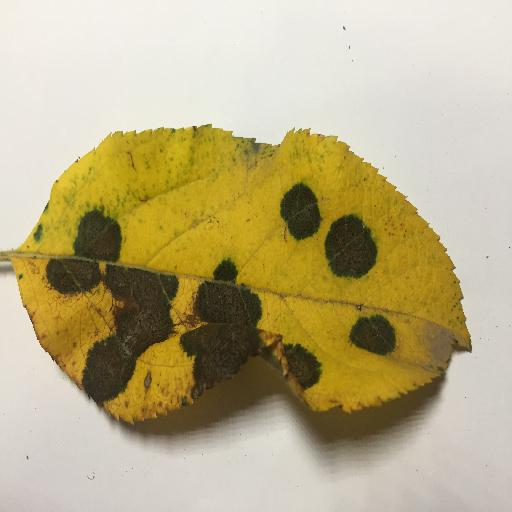Brown_Spot: (39, 256, 189, 416), (187, 270, 262, 399), (324, 214, 374, 274), (279, 339, 325, 395), (75, 209, 118, 260), (349, 320, 399, 361), (286, 185, 318, 233)
